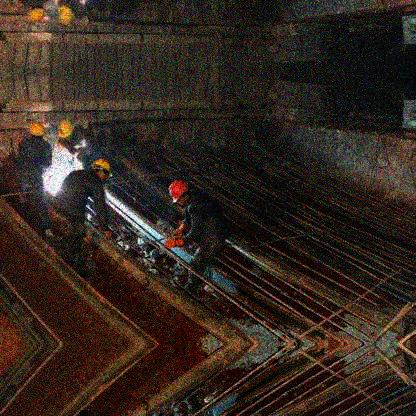helmet: (168, 180, 191, 209), (89, 159, 111, 183), (56, 118, 76, 143), (57, 2, 76, 25), (27, 2, 44, 23), (27, 123, 45, 141)
